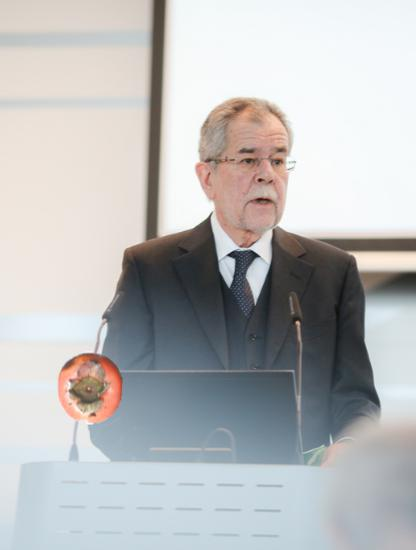Kaki: (54, 352, 127, 425)
